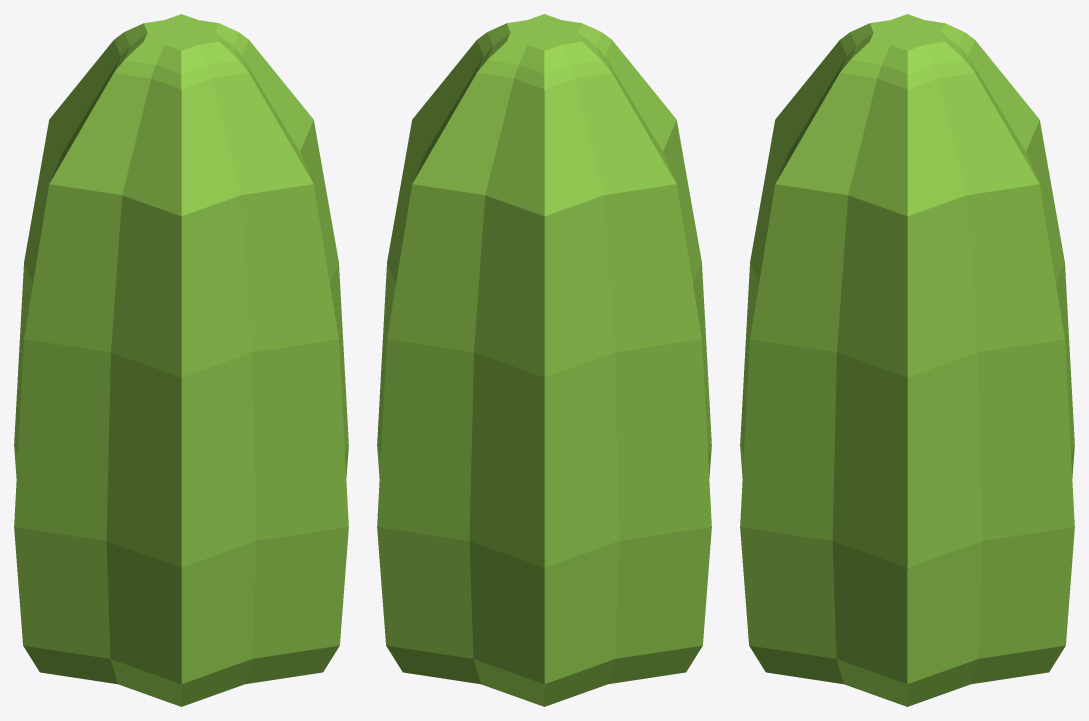
File: Cactus_Small.fbx
3 views of the same model, side by side, from view 1: azimuth 30°, elevation 25°; view 2: azimuth 150°, elevation 25°; view 3: azimuth 270°, elevation 25° (orthographic).
Parts seen in each view (by area): view 1: Cylinder.001; view 2: Cylinder.001; view 3: Cylinder.001.
Part boxes in pixels (bbox=[...]): Cylinder.001: bbox=[14, 14, 348, 706]; Cylinder.001: bbox=[377, 14, 711, 706]; Cylinder.001: bbox=[740, 14, 1074, 706].
Size of the model in its own units: 232 by 400 by 201.
